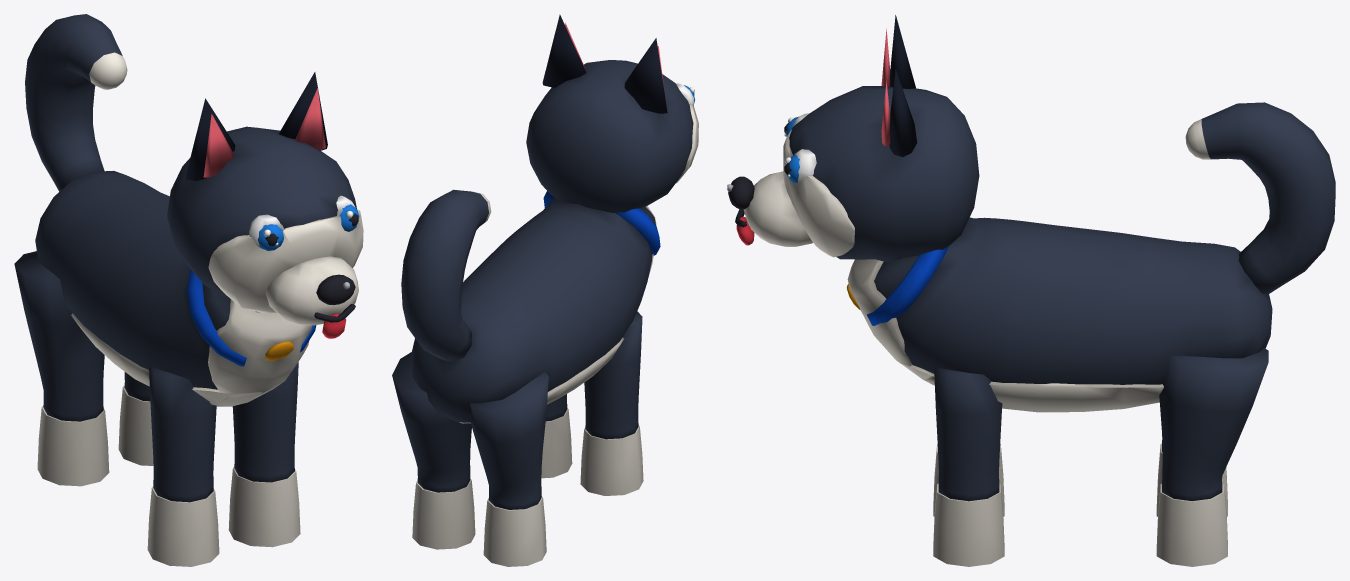
File: Husky.fbx
3 views of the same model, side by side, from view 1: azimuth 30°, elevation 25°; view 2: azimuth 150°, elevation 25°; view 3: azimuth 270°, elevation 25° (orthographic). The views are drawn at different scales.
Parts seen in each view (by area): view 1: Husky, Head, Tail; view 2: Husky, Head, Tail; view 3: Husky, Head, Tail.
Boxes of the visible parts, left/top/right/bottom form: Husky: left=14, top=170, right=316, bottom=566; Head: left=167, top=72, right=363, bottom=338; Tail: left=25, top=14, right=127, bottom=191; Husky: left=392, top=191, right=660, bottom=566; Head: left=526, top=14, right=698, bottom=212; Tail: left=401, top=189, right=491, bottom=362; Husky: left=846, top=217, right=1272, bottom=566; Head: left=727, top=15, right=979, bottom=262; Tail: left=1185, top=102, right=1335, bottom=294.
Size of the model in its own units: 0.27 by 0.775 by 0.8715.
